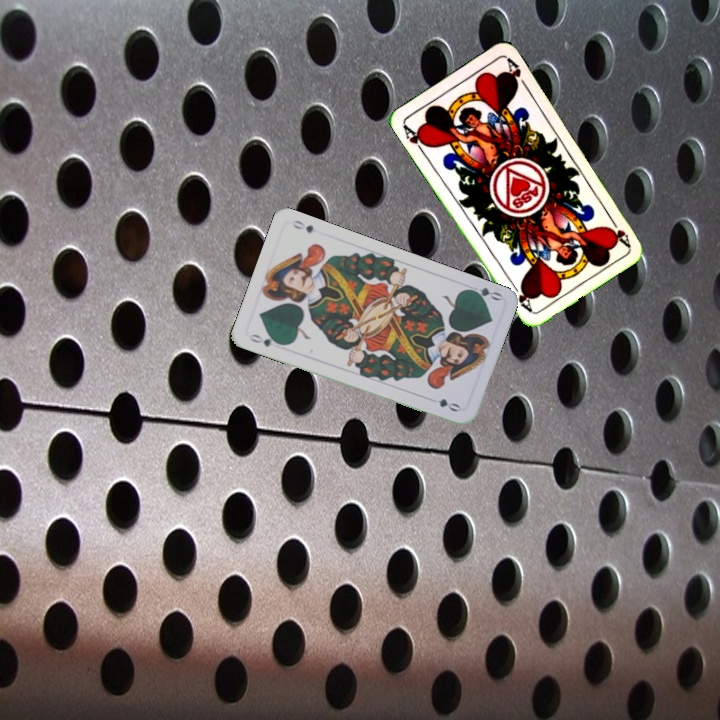GO: (463, 283, 504, 303), (245, 330, 285, 349)
HA: (399, 121, 431, 157), (605, 212, 633, 249)
